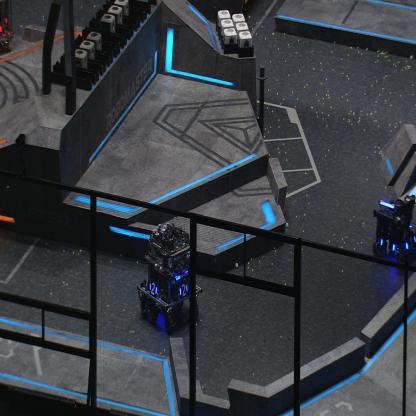car: (137, 222, 202, 333), (371, 194, 416, 270)
